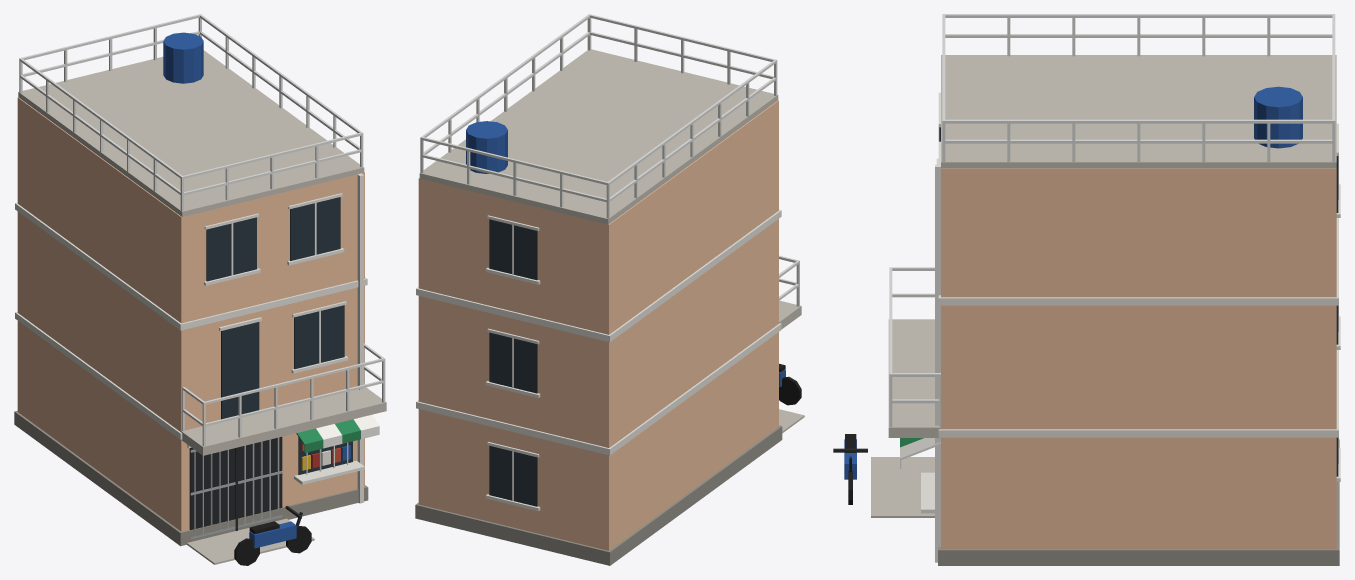
Rendered from BAY_F_ThreeStorey_J.glb.
3 renders of one model, left to right at view 1: azimuth 30°, elevation 25°; view 2: azimuth 150°, elevation 25°; view 3: azimuth 270°, elevation 25°, orthographic. The views are drawn at different scales.
Parts seen in each view (by area): view 1: BAY_F_ThreeStorey_J; view 2: BAY_F_ThreeStorey_J; view 3: BAY_F_ThreeStorey_J.
Part boxes in pixels (<box>): BAY_F_ThreeStorey_J: <box>14,14,386,565</box>; BAY_F_ThreeStorey_J: <box>415,14,804,565</box>; BAY_F_ThreeStorey_J: <box>833,14,1340,565</box>.
Size of the model in its own units: 4.5 by 8.4 by 8.72.
1 material, 1 textured.
